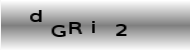2: (114, 22, 127, 36)
G: (50, 24, 66, 37)
R: (68, 21, 83, 35)
d: (28, 8, 42, 23)
i: (90, 20, 95, 33)
